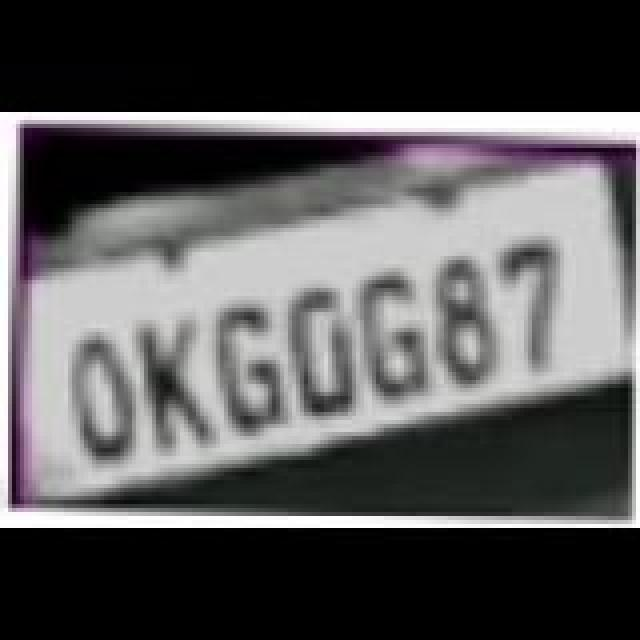7: (488, 236, 584, 372)
8: (420, 252, 516, 388)
D: (272, 284, 376, 420)
G: (200, 300, 304, 436), (340, 268, 444, 404)
K: (120, 314, 232, 454)
O: (50, 328, 150, 464)
